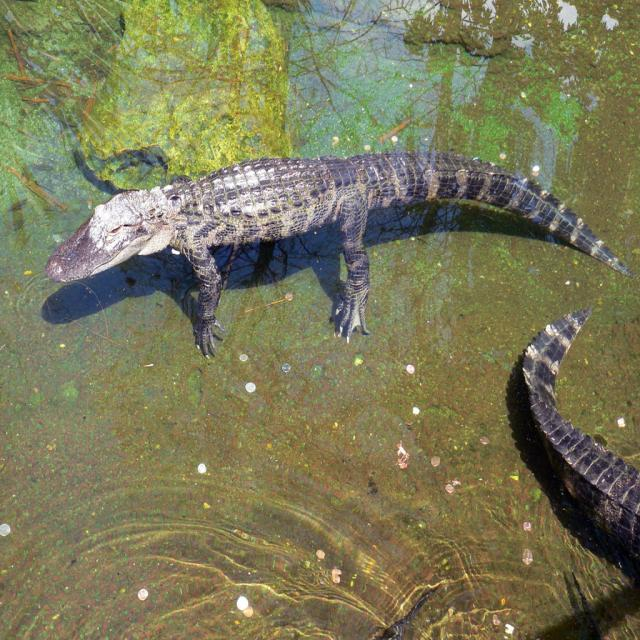crocodile: (37, 153, 630, 361)
